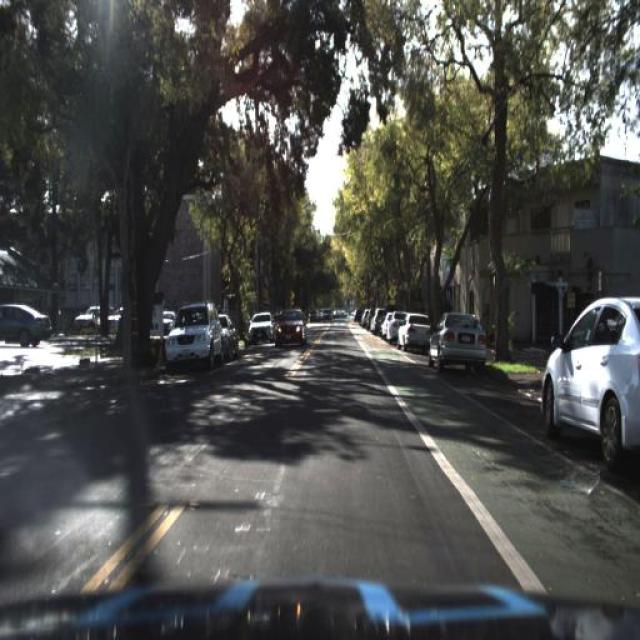car: (537, 284, 639, 456), (423, 306, 492, 374), (166, 298, 222, 372), (0, 300, 60, 360), (428, 312, 487, 373), (274, 306, 310, 359), (395, 311, 429, 351), (215, 310, 241, 362), (398, 310, 429, 350), (277, 304, 304, 347), (246, 308, 274, 341), (159, 303, 180, 333)
